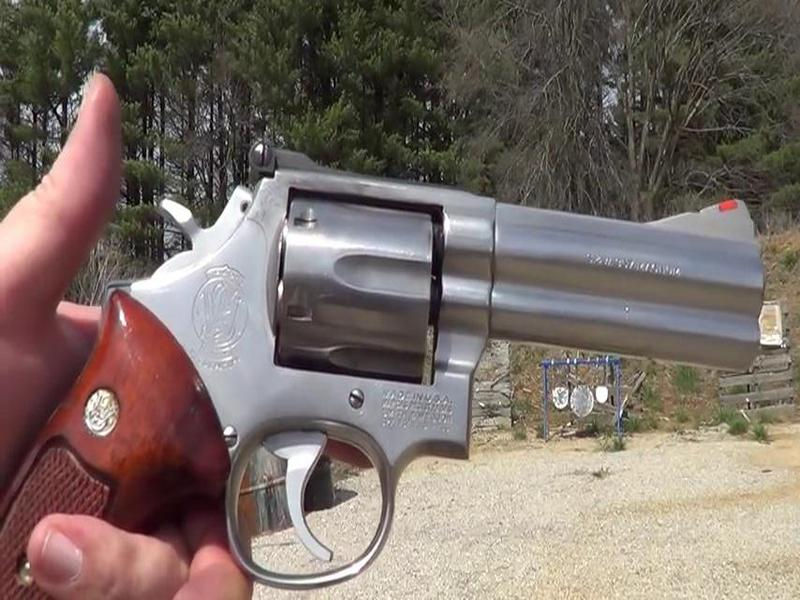Revolver: (69, 134, 779, 587)
